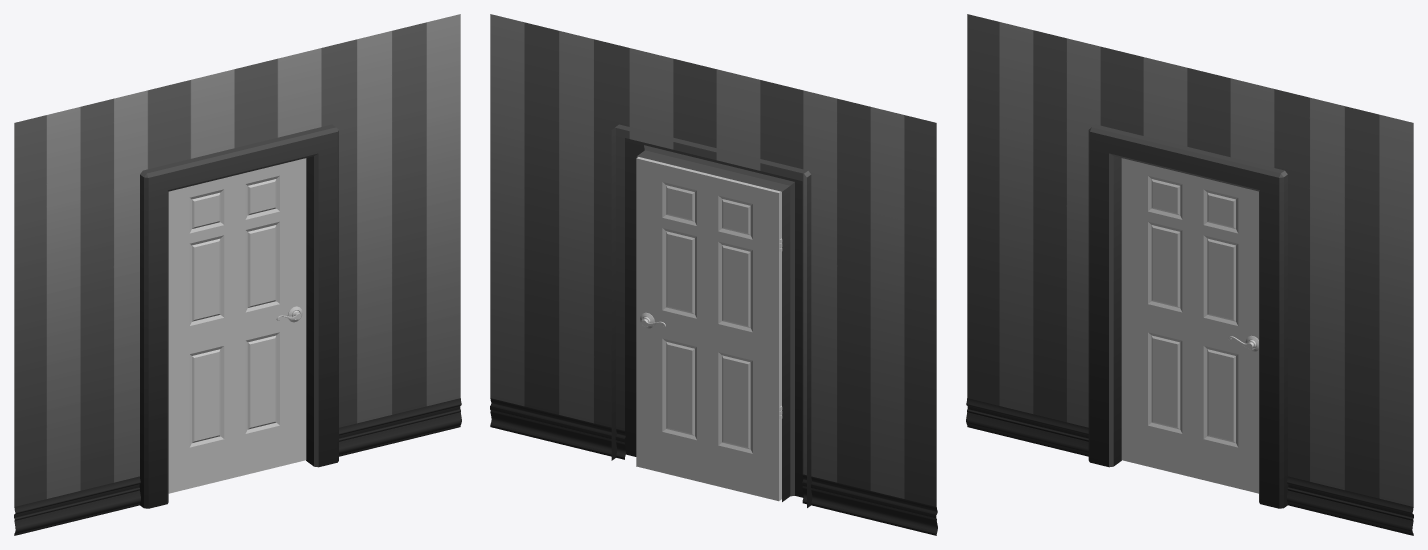
Rendered from Wall_03_Door_02.fbx.
The picture shows the model from 3 angles, left to right: view 1: azimuth 30°, elevation 25°; view 2: azimuth 150°, elevation 25°; view 3: azimuth 330°, elevation 25°; orthographic projection.
Visible parts, largest first — view 1: Wall_3, Door_02; view 2: Wall_3, Door_02; view 3: Wall_3, Door_02.
Boxes of the visible parts, x1,y1,x2,y2 form: Wall_3: (14,14,461,535); Door_02: (168,158,306,493); Wall_3: (490,14,937,535); Door_02: (636,157,782,501); Wall_3: (966,14,1413,535); Door_02: (1121,158,1258,493).
Size of the model in its own units: 3 by 2.65 by 0.1764.
